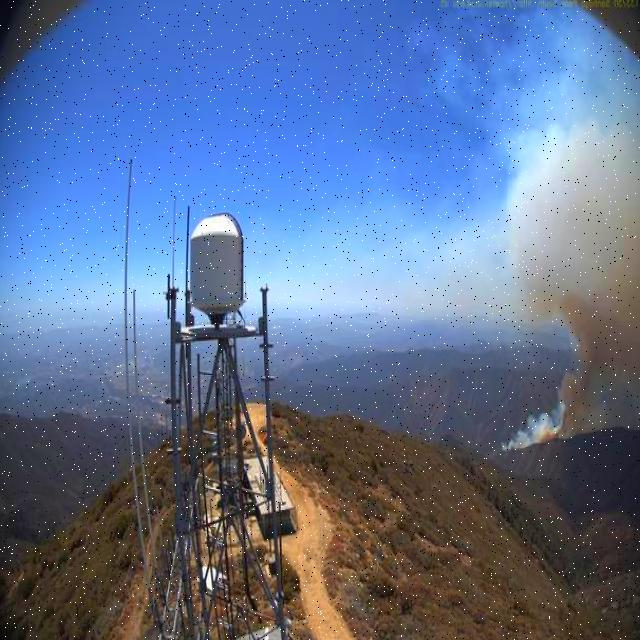smoke: (498, 97, 640, 454)
